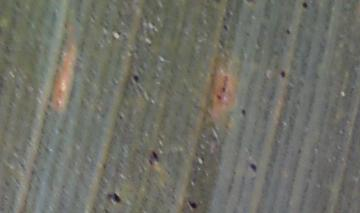tarspot: (109, 193, 122, 203), (149, 152, 159, 163), (186, 200, 197, 208), (250, 162, 257, 173), (131, 75, 140, 83), (215, 93, 223, 100), (241, 107, 246, 117), (220, 86, 227, 93), (222, 24, 229, 31), (302, 1, 307, 10), (280, 71, 286, 78), (285, 28, 291, 34)
